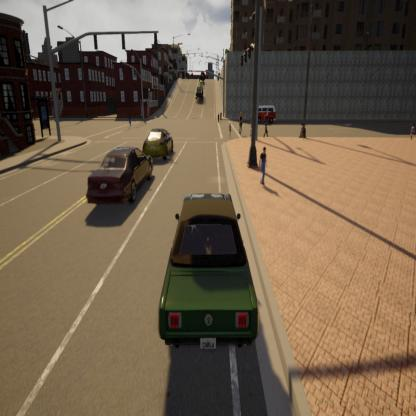Cars: (155, 185, 265, 364), (83, 144, 155, 212), (140, 126, 180, 163), (253, 103, 277, 126), (194, 85, 206, 103)
Pedestrian: (257, 143, 269, 191), (236, 108, 246, 138), (260, 118, 272, 139), (406, 121, 416, 142), (126, 111, 134, 128), (228, 122, 234, 138), (214, 112, 222, 124), (218, 109, 224, 121)
